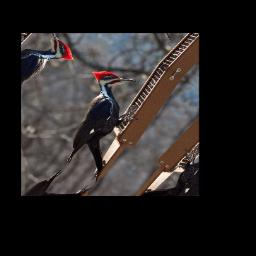Woodpecker: (32, 58, 167, 184)
